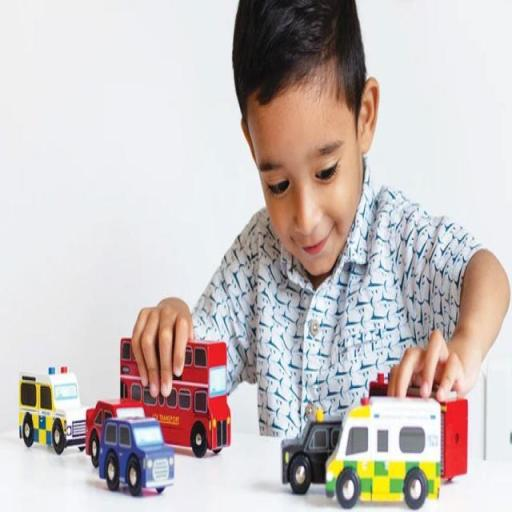baby: (134, 0, 510, 399)
